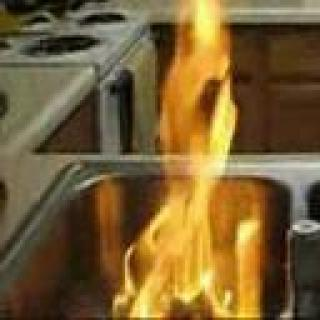fire: (133, 0, 265, 320)
